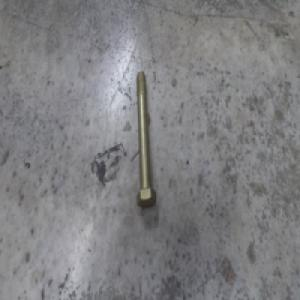Bolt: (134, 71, 156, 207)
